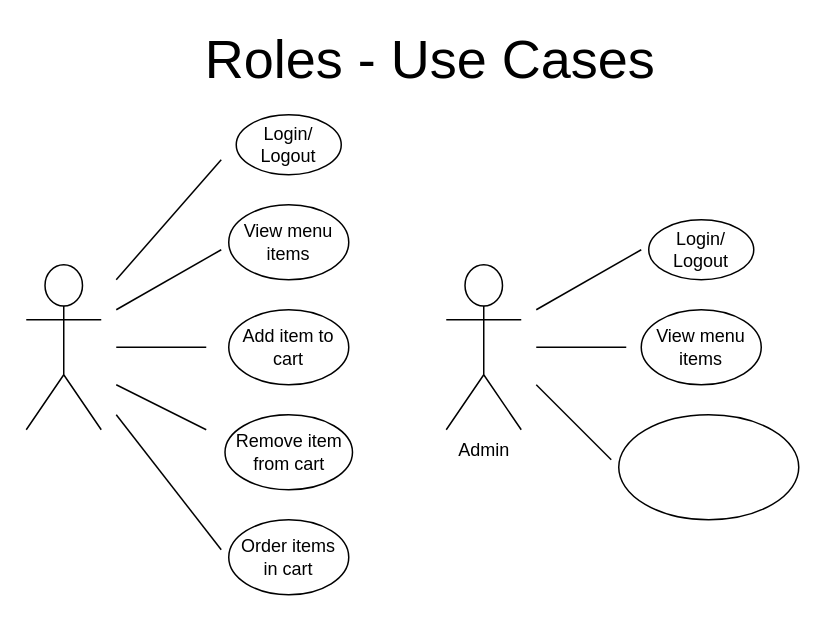
This 825x621 diagram has some shape labels left out. Each missing label, with the centre of its shape:
"Create, Update, and Delete menu items" belongs at pixel 708 466.
"User" belongs at pixel 63 346.
